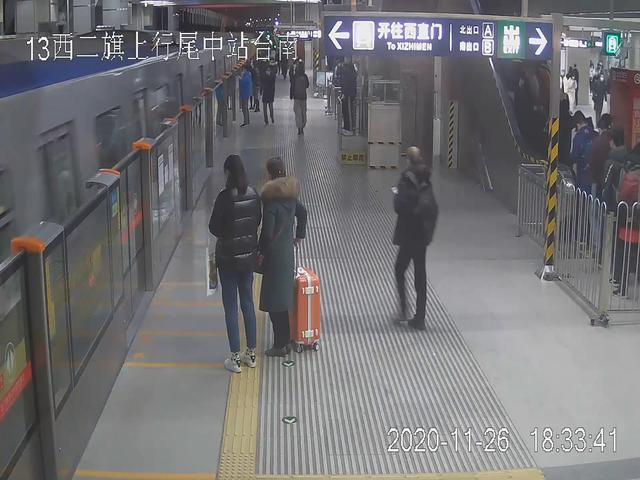person: (258, 158, 321, 361), (207, 152, 261, 370), (390, 142, 439, 336), (338, 57, 364, 137), (289, 62, 313, 136), (235, 66, 254, 128), (261, 64, 276, 124)
